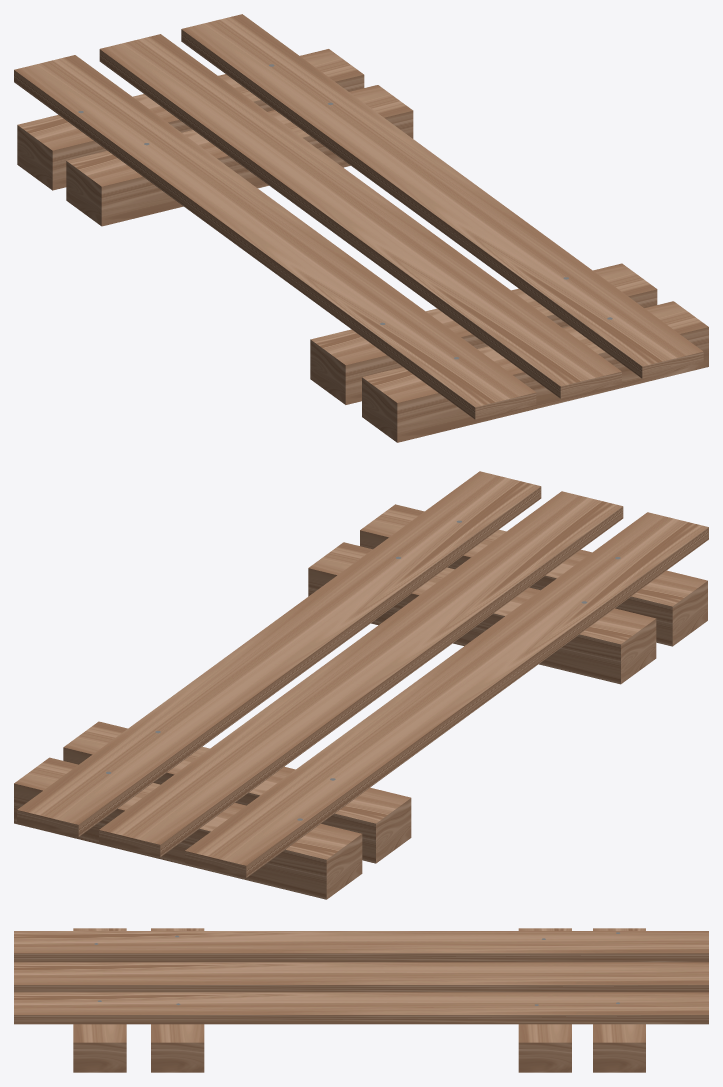
The model's file is woodpaletsnew.fbx.
3 renders of one model, top to bottom at view 1: azimuth 30°, elevation 25°; view 2: azimuth 150°, elevation 25°; view 3: azimuth 270°, elevation 25°, orthographic. The views are drawn at different scales.
Parts seen in each view (by area): view 1: pasted__pasted__pasted__pasted__pasted__pasted__pCube1, pasted__pasted__pasted__pasted__pasted__pasted__pasted__pCub, pasted__pasted__pasted__pasted__pasted__pCube1, pasted__pCube1, pasted__pasted__pasted__pasted__pCube1, pasted__pasted__pCube1, pasted__pasted__pasted__pCube1; view 2: pasted__pasted__pasted__pasted__pasted__pasted__pCube1, pasted__pasted__pasted__pasted__pasted__pasted__pasted__pCub, pasted__pasted__pasted__pasted__pasted__pCube1, pasted__pasted__pasted__pCube1, pasted__pasted__pCube1, pasted__pCube1, pasted__pasted__pasted__pasted__pCube1; view 3: pasted__pasted__pasted__pasted__pasted__pasted__pasted__pCub, pasted__pasted__pasted__pasted__pasted__pCube1, pasted__pasted__pasted__pasted__pasted__pasted__pCube1, pasted__pCube1, pasted__pasted__pCube1, pasted__pasted__pasted__pasted__pCube1, pasted__pasted__pasted__pCube1.
Part boxes in pixels (x1,y1,x2,y2): pasted__pasted__pasted__pasted__pasted__pasted__pCube1: [99, 34, 621, 398]; pasted__pasted__pasted__pasted__pasted__pasted__pasted__pCub: [181, 14, 703, 378]; pasted__pasted__pasted__pasted__pasted__pCube1: [14, 55, 536, 419]; pasted__pCube1: [362, 301, 708, 442]; pasted__pasted__pasted__pasted__pCube1: [66, 85, 413, 226]; pasted__pasted__pCube1: [310, 263, 657, 404]; pasted__pasted__pasted__pCube1: [17, 49, 364, 190]; pasted__pasted__pasted__pasted__pasted__pasted__pCube1: [99, 491, 623, 857]; pasted__pasted__pasted__pasted__pasted__pasted__pasted__pCub: [17, 471, 541, 837]; pasted__pasted__pasted__pasted__pasted__pCube1: [185, 512, 708, 877]; pasted__pasted__pasted__pCube1: [14, 757, 362, 899]; pasted__pasted__pCube1: [308, 542, 656, 684]; pasted__pCube1: [360, 504, 707, 646]; pasted__pasted__pasted__pasted__pCube1: [63, 721, 411, 863]; pasted__pasted__pasted__pasted__pasted__pasted__pasted__pCub: [14, 992, 708, 1024]; pasted__pasted__pasted__pasted__pasted__pCube1: [14, 931, 708, 962]; pasted__pasted__pasted__pasted__pasted__pasted__pCube1: [14, 962, 708, 992]; pasted__pCube1: [73, 928, 126, 1072]; pasted__pasted__pCube1: [151, 928, 204, 1072]; pasted__pasted__pasted__pasted__pCube1: [518, 928, 571, 1072]; pasted__pasted__pasted__pCube1: [593, 928, 645, 1072].
Size of the model in its own units: 3.52 by 0.5962 by 9.01.
Materials: 11 (3 with a texture image).
